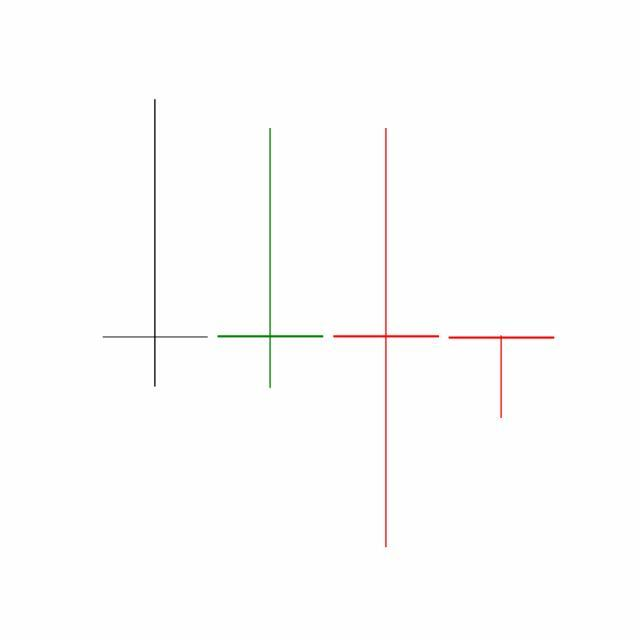Dragonfly Doji: (444, 335, 560, 421)
